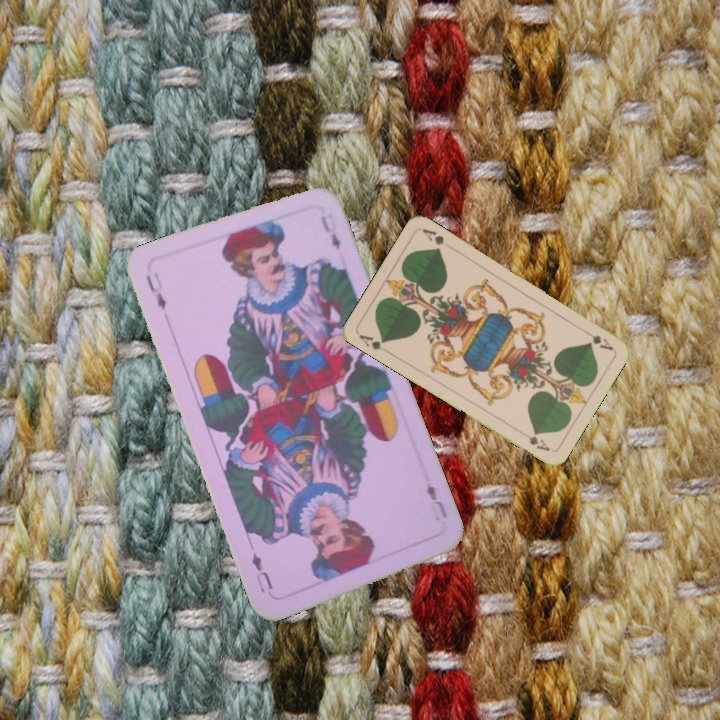EU: (142, 268, 169, 314), (422, 479, 451, 521)
GA: (579, 326, 616, 353), (355, 330, 388, 353)
